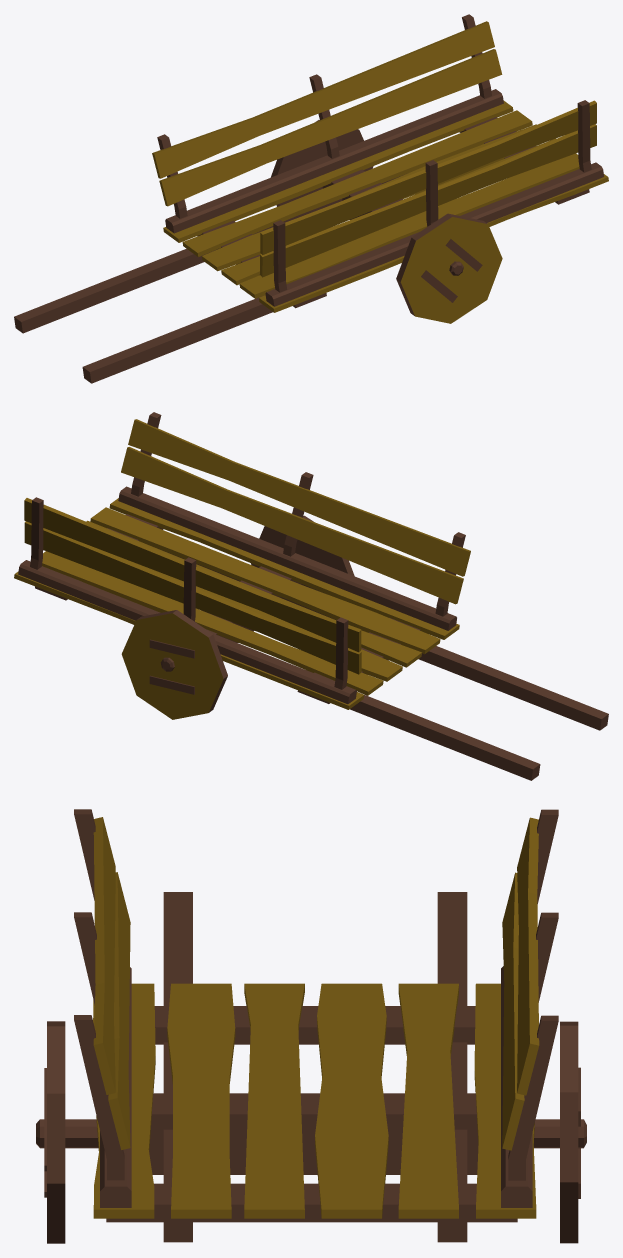
Rendered from wagon.fbx.
3 renders of one model, top to bottom at view 1: azimuth 30°, elevation 25°; view 2: azimuth 150°, elevation 25°; view 3: azimuth 270°, elevation 25°, orthographic. The views are drawn at different scales.
Parts seen in each view (by area): view 1: Cylinder.003; view 2: Cylinder.003; view 3: Cylinder.003.
Boxes of the visible parts, box(x1,y1,x2,y2) form: Cylinder.003: box(14, 14, 608, 383); Cylinder.003: box(14, 412, 608, 780); Cylinder.003: box(36, 809, 586, 1243).
Bounding box in the file's own units: 86.91 × 29.95 × 41.32.
